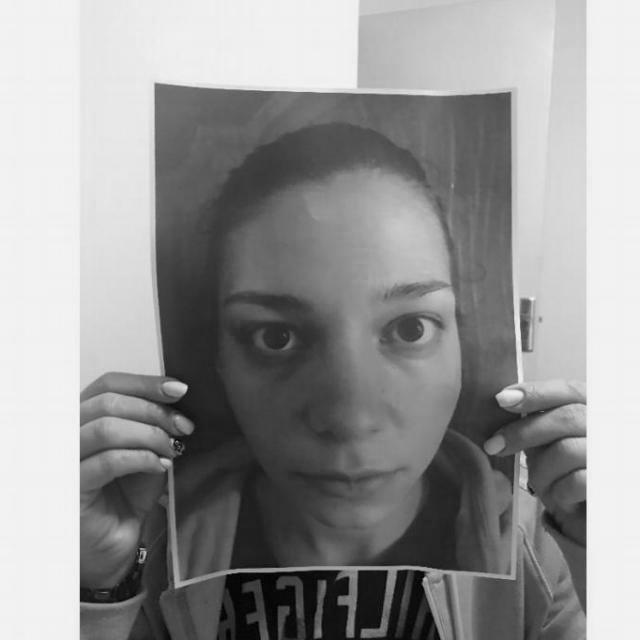fake: (141, 82, 529, 600)
